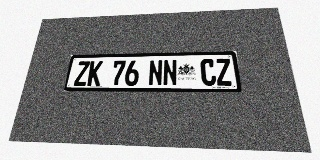6: (124, 60, 140, 86)
7: (110, 60, 126, 86)
C: (200, 59, 217, 86)
K: (87, 61, 103, 86)
N: (148, 60, 163, 86), (163, 59, 177, 86)
Z: (215, 58, 233, 86), (73, 61, 90, 86)
